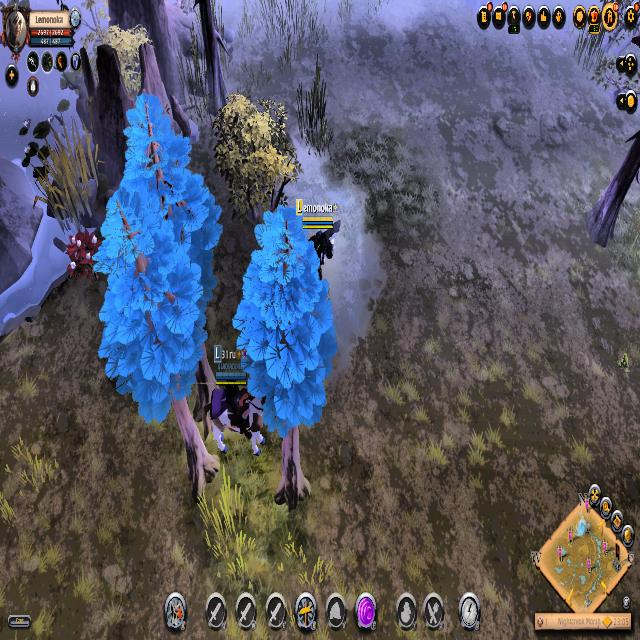fiber tier 5: (65, 226, 101, 282)
wood tier 4: (90, 188, 208, 424), (234, 208, 338, 441), (116, 92, 224, 315)
